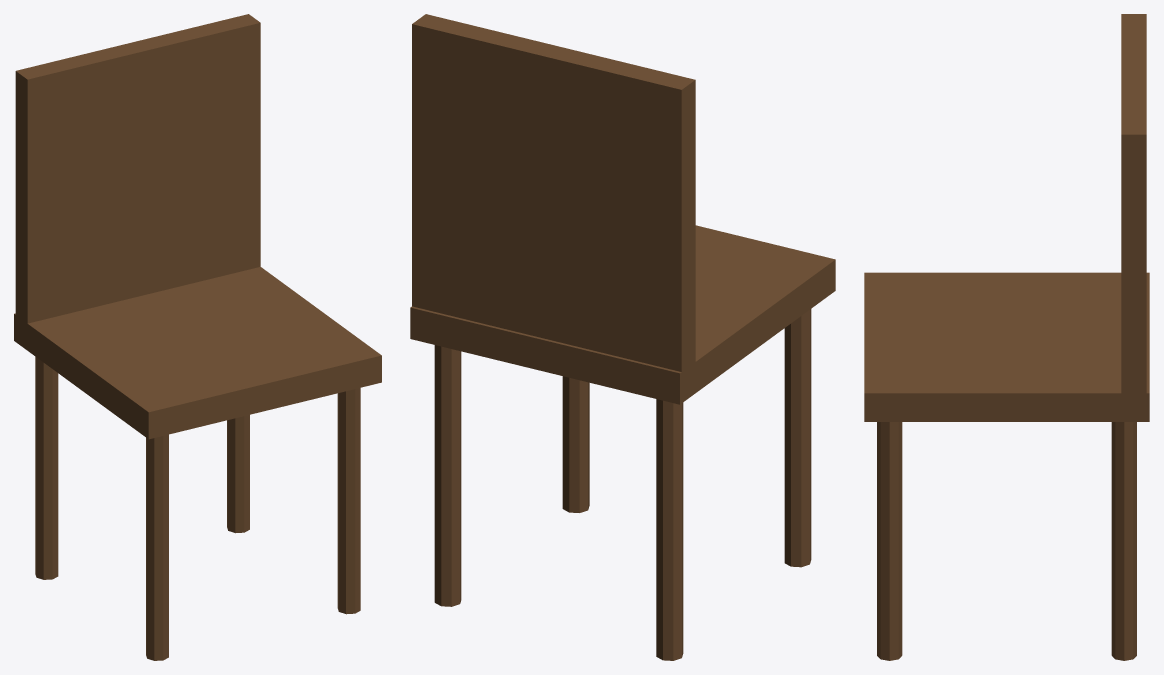
Rendered from chair.glb.
The picture shows the model from 3 angles, left to right: view 1: azimuth 30°, elevation 25°; view 2: azimuth 150°, elevation 25°; view 3: azimuth 270°, elevation 25°; orthographic projection. The views are drawn at different scales.
Visible parts, largest first — view 1: chair; view 2: chair; view 3: chair.
Boxes of the visible parts, <box> form: chair: <box>14,14,381,660</box>; chair: <box>410,14,835,660</box>; chair: <box>864,14,1149,660</box>.
Bounding box in the file's own units: 0.45 × 0.925 × 0.45.
